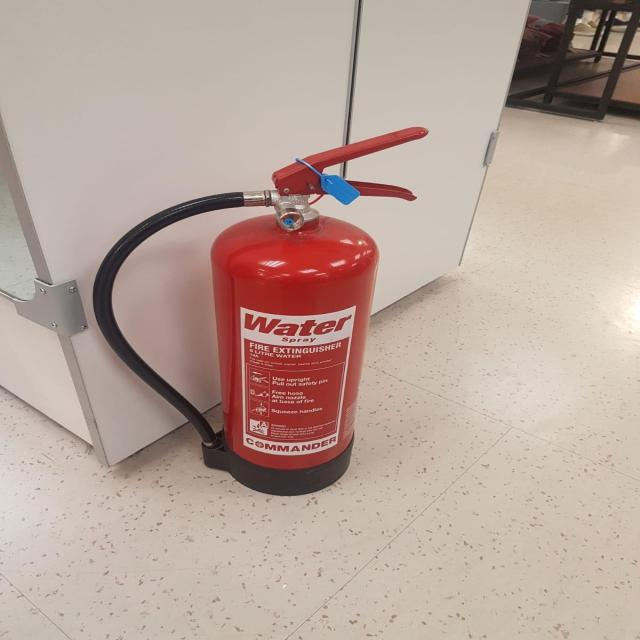fire_extinguisher: (88, 123, 430, 500)
